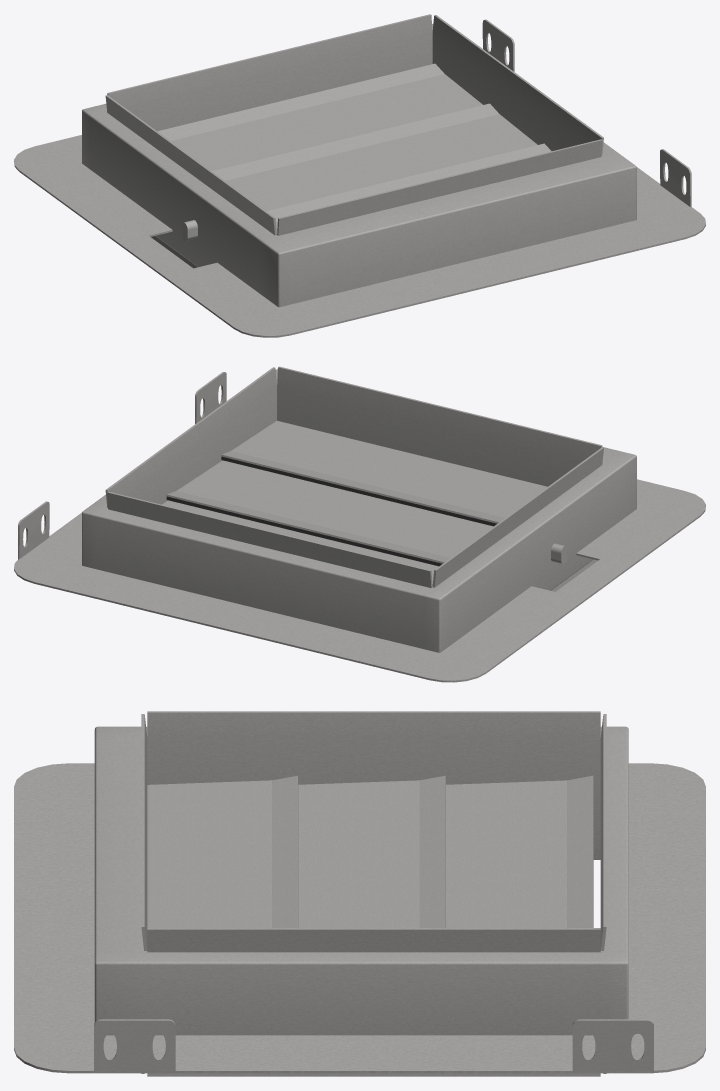
The model's file is DamperTest.gltf.
The picture shows the model from 3 angles, top to bottom: view 1: azimuth 30°, elevation 25°; view 2: azimuth 150°, elevation 25°; view 3: azimuth 270°, elevation 25°; orthographic projection. The views are drawn at different scales.
Visible parts, largest first — view 1: Plane.001, Plane, Plane.005, Plane.006; view 2: Plane.001, Plane, Plane.005, Plane.006; view 3: Plane.001, Plane, Plane.005, Plane.006.
Boxes of the visible parts, bbox=[...] form: Plane.001: bbox=[82, 14, 636, 307]; Plane: bbox=[157, 63, 551, 233]; Plane.005: bbox=[14, 135, 705, 337]; Plane.006: bbox=[482, 19, 691, 207]; Plane.001: bbox=[82, 366, 636, 652]; Plane: bbox=[162, 420, 547, 586]; Plane.005: bbox=[14, 479, 705, 682]; Plane.006: bbox=[18, 372, 226, 559]; Plane.001: bbox=[94, 711, 628, 1076]; Plane: bbox=[147, 775, 593, 927]; Plane.005: bbox=[14, 763, 705, 1073]; Plane.006: bbox=[94, 1019, 653, 1073].
Bounding box in the file's own units: 2.77 × 0.6177 × 2.63.
2 materials, 1 textured.
